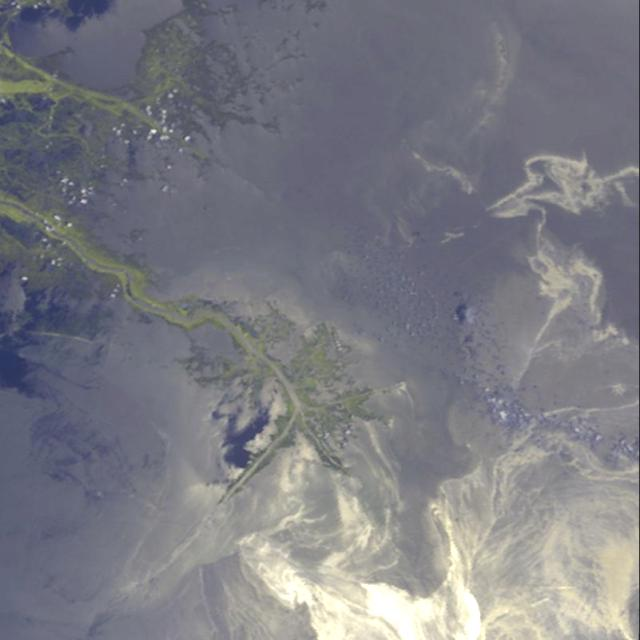oil spill: (433, 154, 638, 639), (434, 434, 638, 639), (238, 490, 445, 639), (489, 155, 638, 218)
